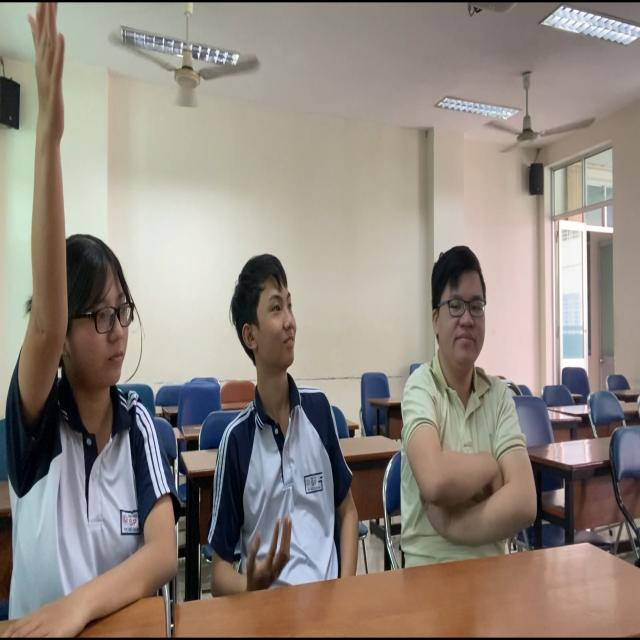raise_hand: (3, 5, 186, 640)
